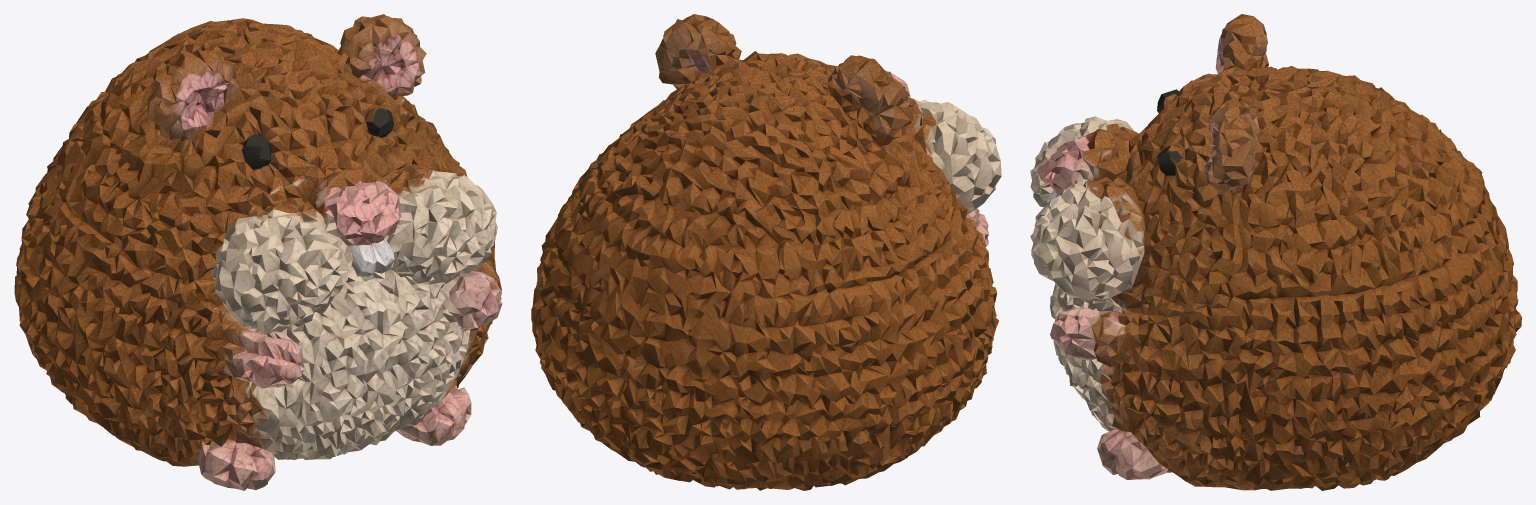
The model's file is feit.glb.
3 renders of one model, left to right at view 1: azimuth 30°, elevation 25°; view 2: azimuth 150°, elevation 25°; view 3: azimuth 270°, elevation 25°, orthographic. The views are drawn at different scales.
Bounding box in the file's own units: 1.78 × 1.58 × 1.92.
Materials: 1 (1 with a texture image).
